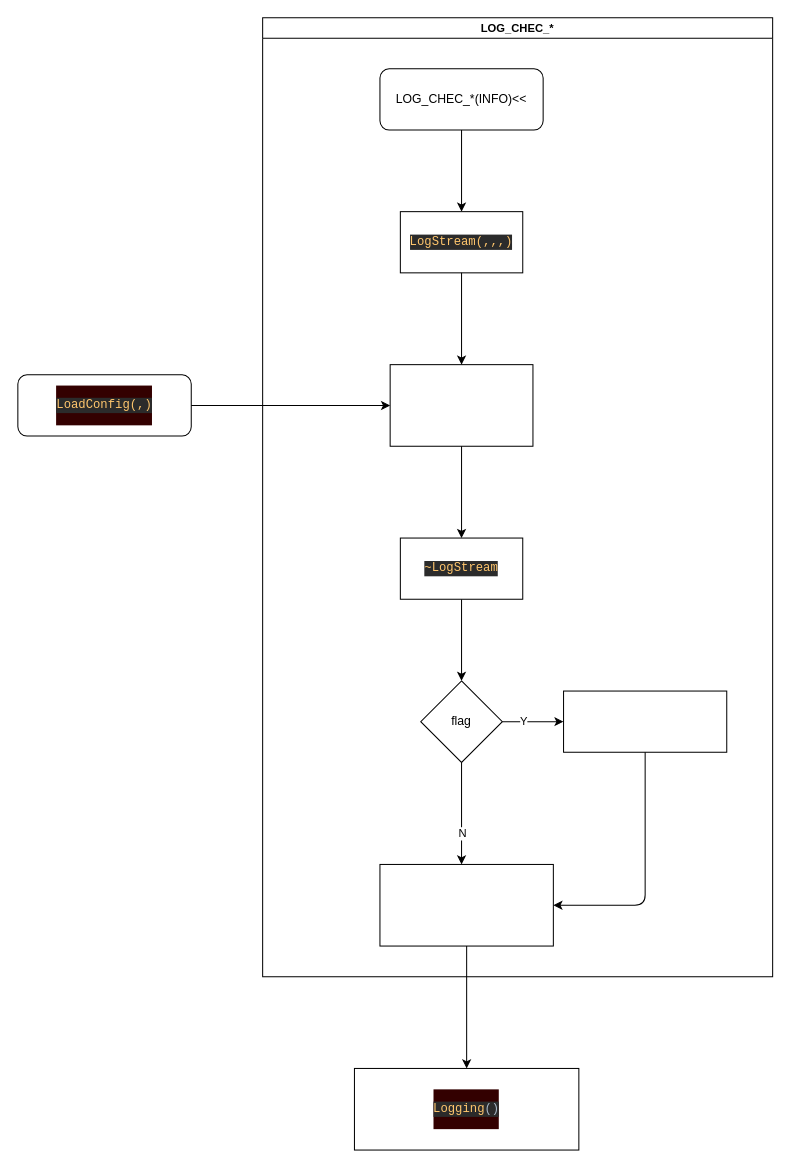
The diagram is 791 pixels wide and 1168 high, and some of its shapes have lost their labels. Each missing label, with the centre of its shape:
"flag= g_logConfig.*" goes at point (461, 405).
"google ::LogMessage" goes at point (645, 721).
"logMessageStashed.Expand" goes at point (466, 904).
